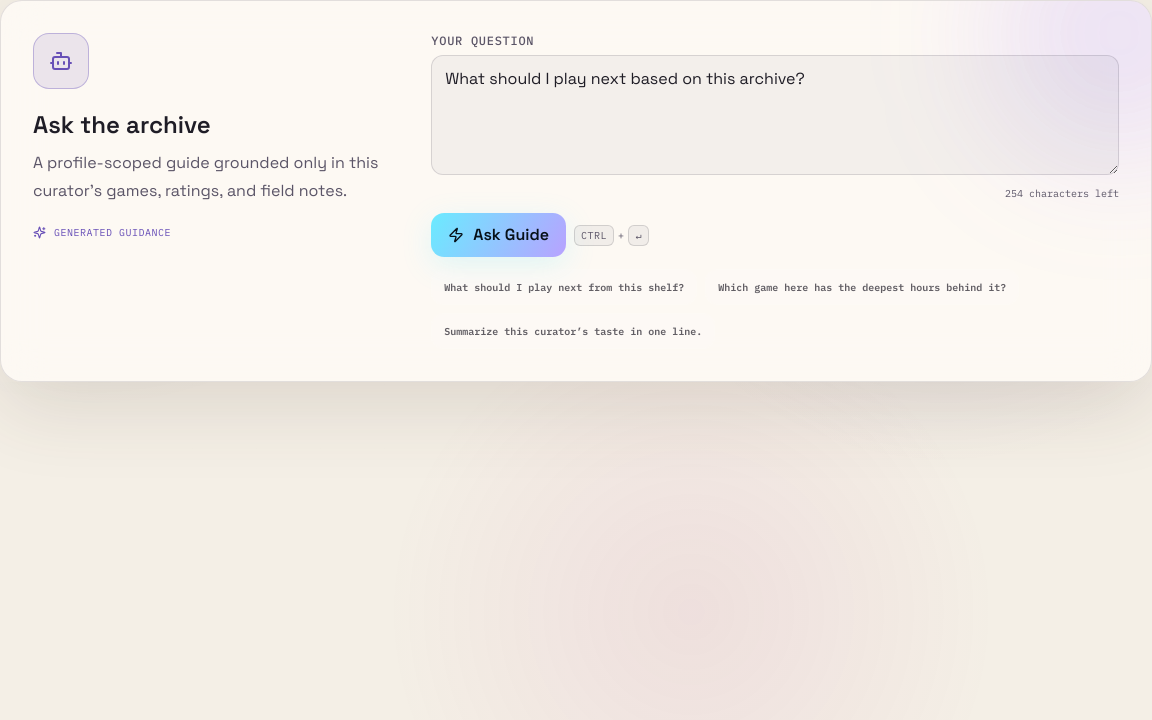
Guide › survives upstream failures with an in-place recovery message
Step 1. Click the button "Ask Guide" → (499, 235), box [431,213,566,257]
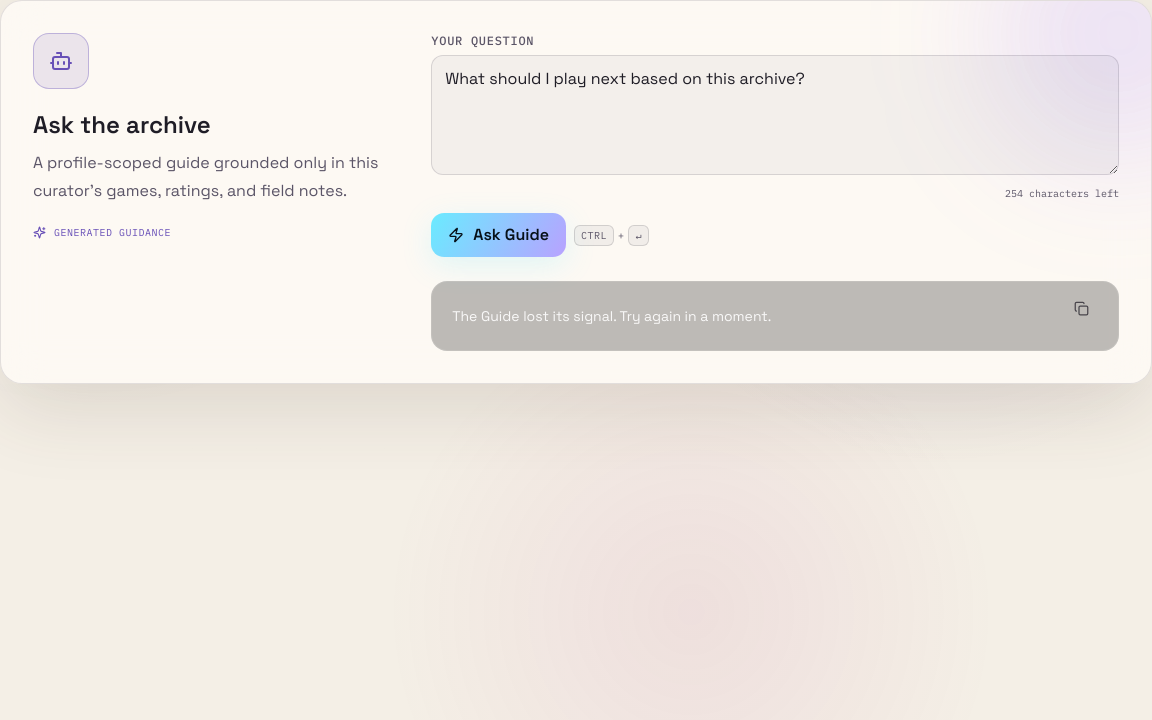
expect the text "The Guide lost its signal. Try again in a moment." is shown: met, box [431,281,1119,351]
